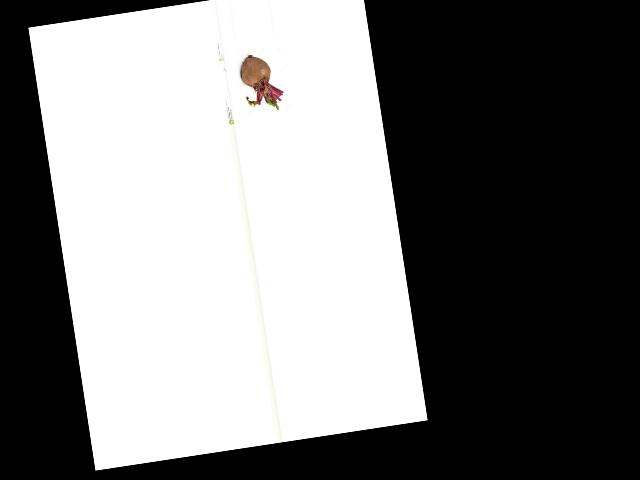beet: (238, 50, 285, 114)
